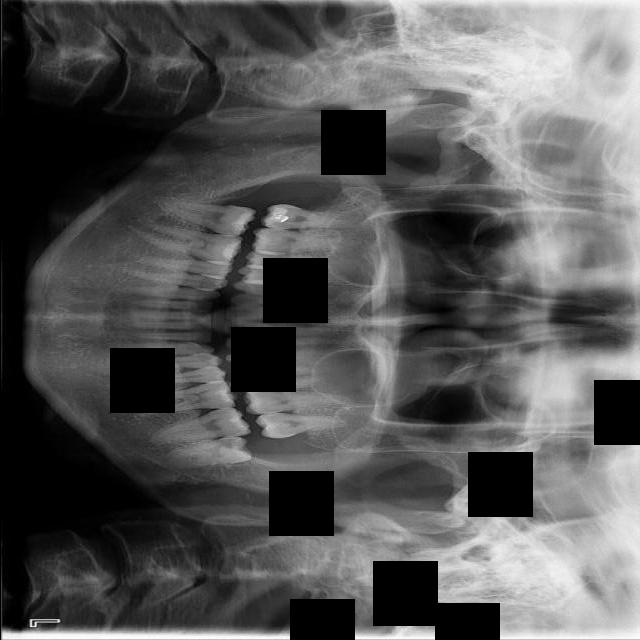52: (258, 198, 308, 237)
73: (40, 592, 60, 609)
BioHorizons Implant: (255, 413, 345, 439)
Biomet 3i Implant: (168, 433, 255, 472)
Blue Sky Bio Implant: (150, 405, 252, 444)
Caries: (258, 203, 366, 230)
Implant: (154, 196, 256, 239)
